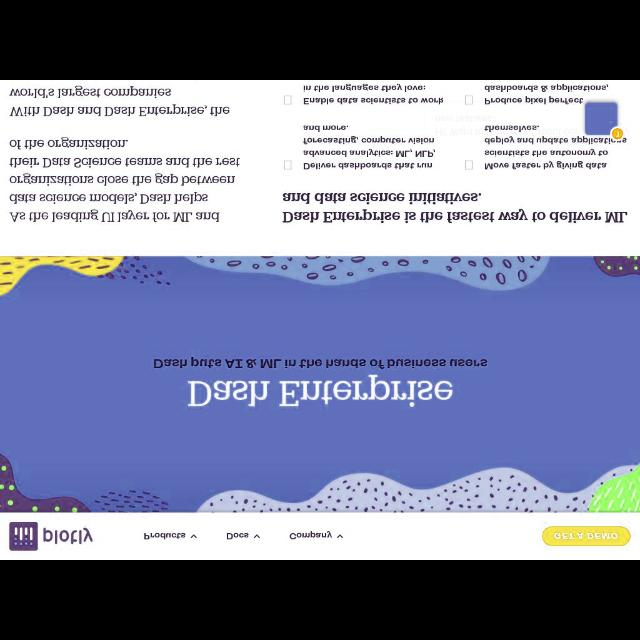checkbox: (282, 161, 292, 171), (464, 160, 474, 170), (465, 96, 473, 104), (284, 96, 290, 104)
icon: (190, 533, 198, 539), (337, 534, 345, 538), (253, 535, 260, 539)
image: (8, 522, 94, 552)
spinner: (144, 530, 198, 540), (290, 531, 344, 541), (224, 532, 262, 540)
text: (10, 136, 242, 222), (281, 186, 627, 222), (186, 378, 454, 408), (484, 123, 628, 171), (9, 89, 229, 118), (303, 128, 435, 170), (152, 358, 488, 369), (303, 82, 443, 106), (484, 83, 610, 105), (554, 530, 618, 540), (144, 528, 186, 542), (290, 530, 332, 540), (228, 533, 248, 541)
textbutton: (542, 526, 630, 546)
toolbar: (1, 513, 639, 559)
